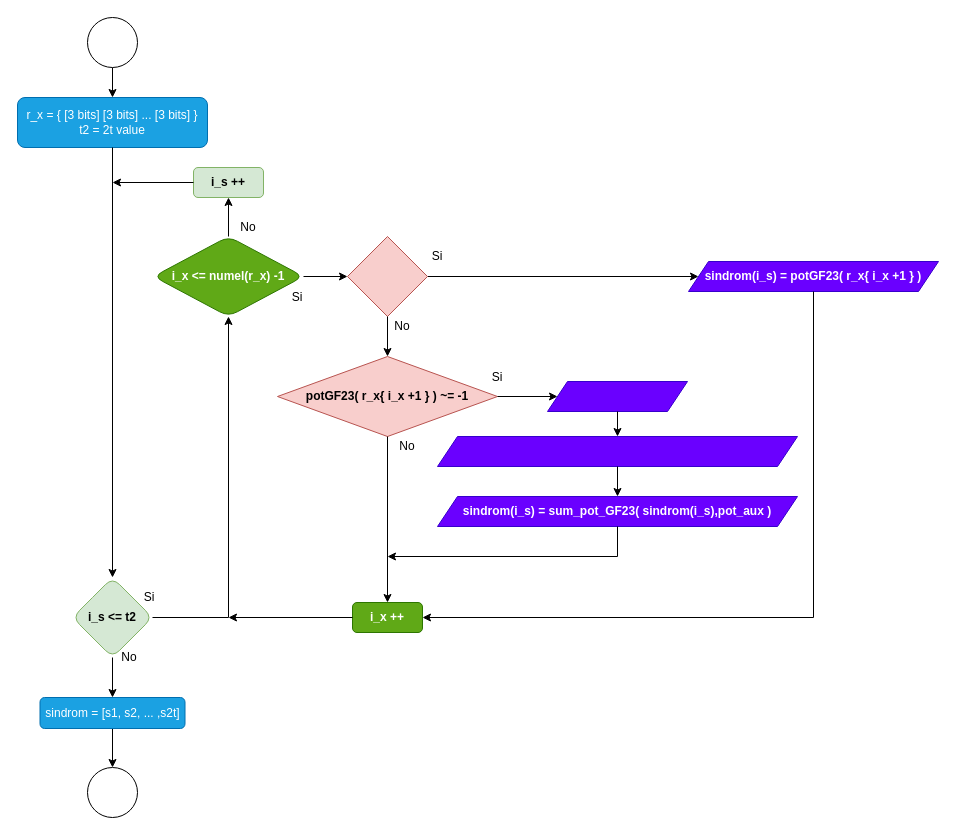
This 956x835 diagram has some shape labels left out. The shapes that lost their labels are listed below. From the top down, each one's centre as x and y in pixels, then its label:
the point at 112,42: INICIO
the point at 387,276: i_x == 0
the point at 617,396: pot_aux = i_s * i_x
the point at 617,451: pot_aux = mult_pot_GF23( potGF23(r_x{i_x+1}),pot_aux )
the point at 112,792: FIN
